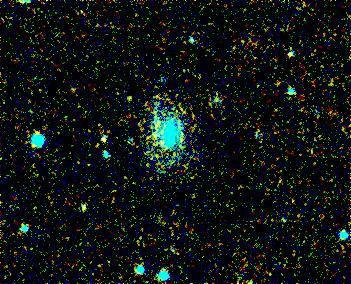star: (115, 82, 145, 112)
